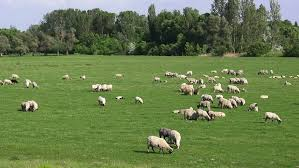sheep: (145, 135, 169, 157), (261, 109, 285, 126), (169, 131, 182, 155), (212, 94, 231, 110), (21, 99, 38, 113), (179, 85, 197, 97), (225, 83, 241, 96), (197, 90, 214, 102), (230, 97, 248, 108), (225, 97, 239, 111), (194, 108, 207, 123), (249, 104, 265, 116), (185, 104, 196, 121), (213, 83, 228, 95), (252, 65, 268, 76), (199, 98, 212, 111), (204, 65, 218, 77), (228, 77, 243, 88), (191, 77, 207, 87), (183, 69, 197, 80), (56, 72, 70, 83), (113, 71, 128, 80), (25, 78, 36, 90), (282, 78, 293, 90), (237, 75, 250, 85), (160, 128, 170, 140), (107, 84, 117, 95), (1, 78, 12, 88), (154, 76, 164, 85), (99, 97, 108, 107), (10, 74, 20, 83), (168, 72, 180, 79), (76, 74, 88, 81), (133, 96, 142, 105), (101, 84, 111, 92), (118, 95, 127, 103), (91, 84, 99, 92), (220, 67, 228, 75), (237, 68, 245, 76), (180, 73, 187, 81)
